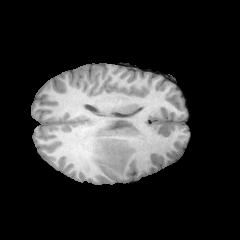glioma: (91, 126, 135, 173)
